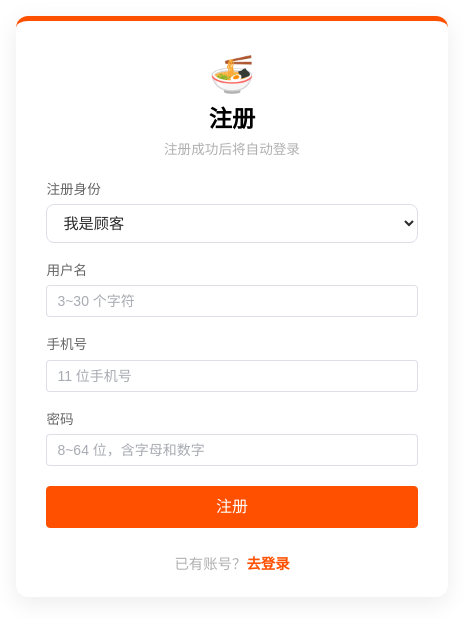
Test case: 注册页（角色化） › 切换骑手角色后展示骑手专属字段，不展示商家字段
This screenshot has width=465, height=619.
Select "我是骑手" in the dropdown with test id "register-role" at x=232, y=224, box top-left (46, 204), bottom-right (418, 243)
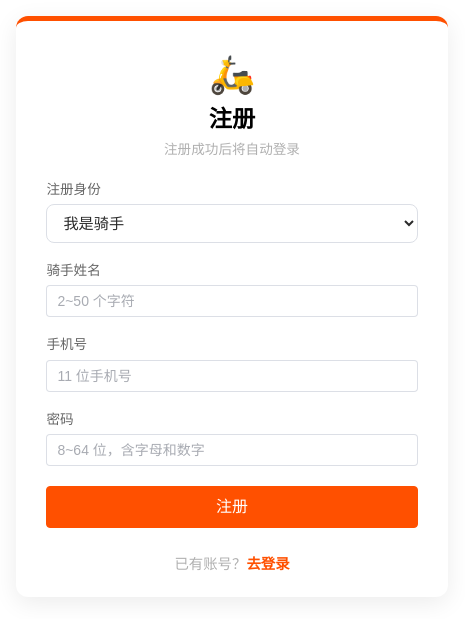
Now the field with test id "register-rider-name" is shown, box top-left (57, 286), bottom-right (407, 316)
